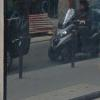Motorcycle: (41, 4, 100, 67)
